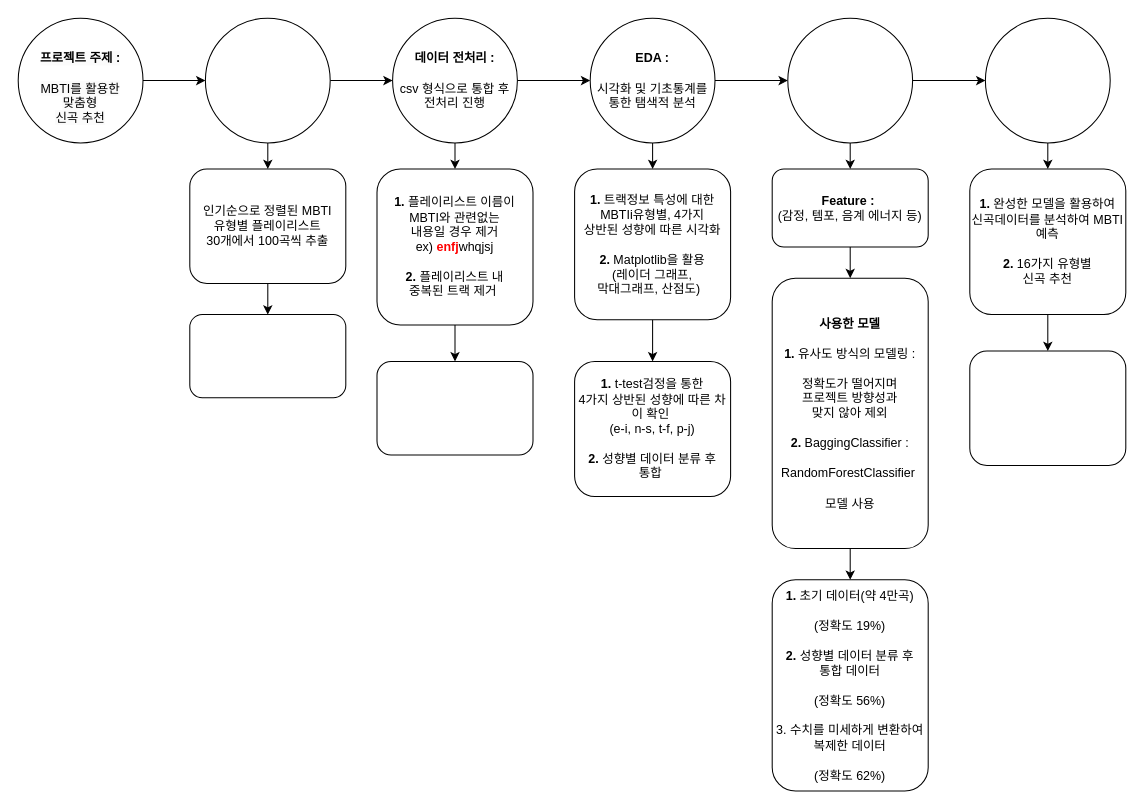
This 1144x809 diagram has some shape labels left out. Each missing label, with the centre of its shape:
"1. 범주형 데이터 더미화 (key : 0~11) 2. 범주 통일 및 정규화" belongs at point 454,407.
"Chat Bot을 활용한 간단한 시연" belongs at point 1047,407.
"결과 : 신곡 데이터를 활용한 신곡 추천 서비스" belongs at point 1047,80.
"데이터 수집 : Spotify api를 활용" belongs at point 267,80.
"머신러닝 모델링 : Feature : 트랙정보 Target : MBTI" belongs at point 850,80.
"신곡에 대한 동일한 기준의 트랙 정보 수집" belongs at point 267,356.
